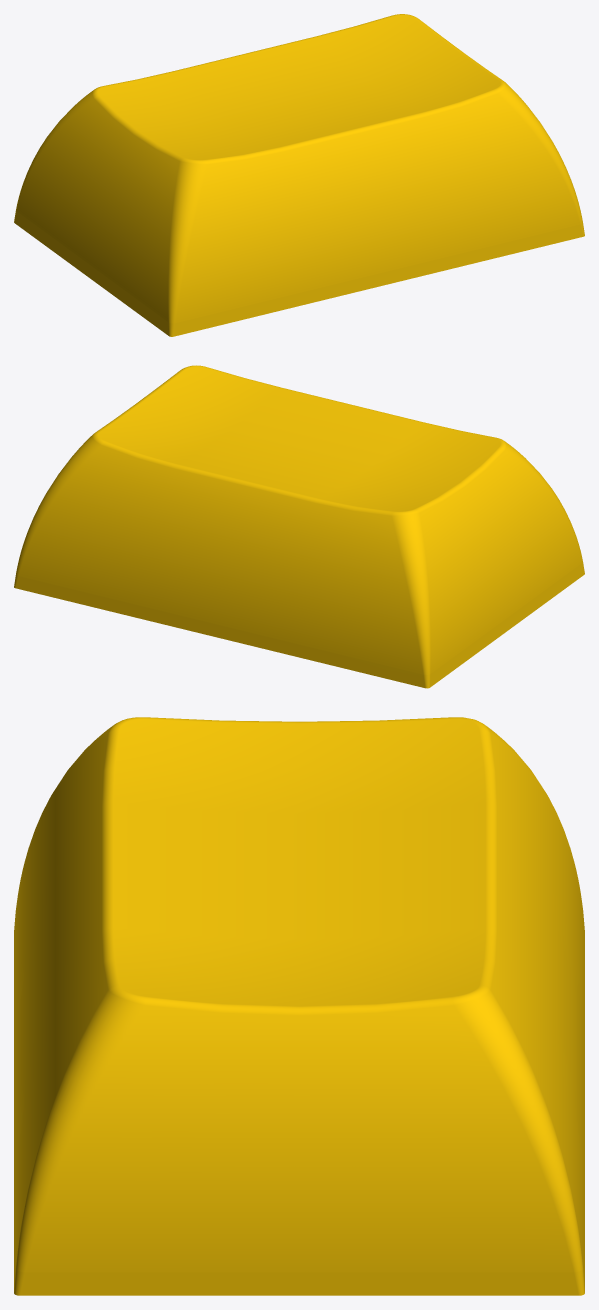
3 views of the same model, one above another, from view 1: azimuth 30°, elevation 25°; view 2: azimuth 150°, elevation 25°; view 3: azimuth 270°, elevation 25° (orthographic). The views are drawn at different scales.
Parts seen in each view (by area): view 1: Body106; view 2: Body106; view 3: Body106.
Boxes of the visible parts, bbox=[...] form: Body106: bbox=[14, 14, 584, 336]; Body106: bbox=[14, 365, 584, 688]; Body106: bbox=[14, 717, 584, 1295].
Bounding box in the file's own units: 27.81 × 9.05 × 18.31.
